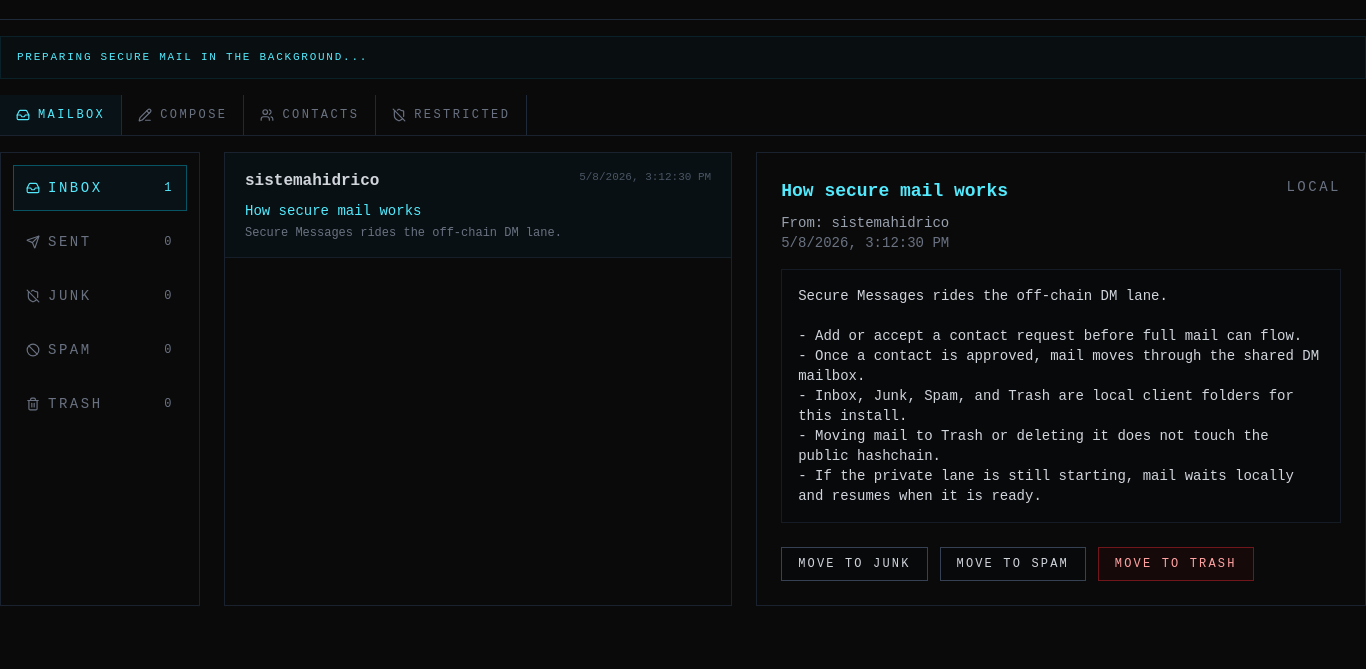
Test: MessagesView first-contact trust UX › can jump directly from the downgrade warning into invite import flow
The image size is (1366, 669).
Click the button "COMPOSE": (183, 114) [122, 94, 244, 134]
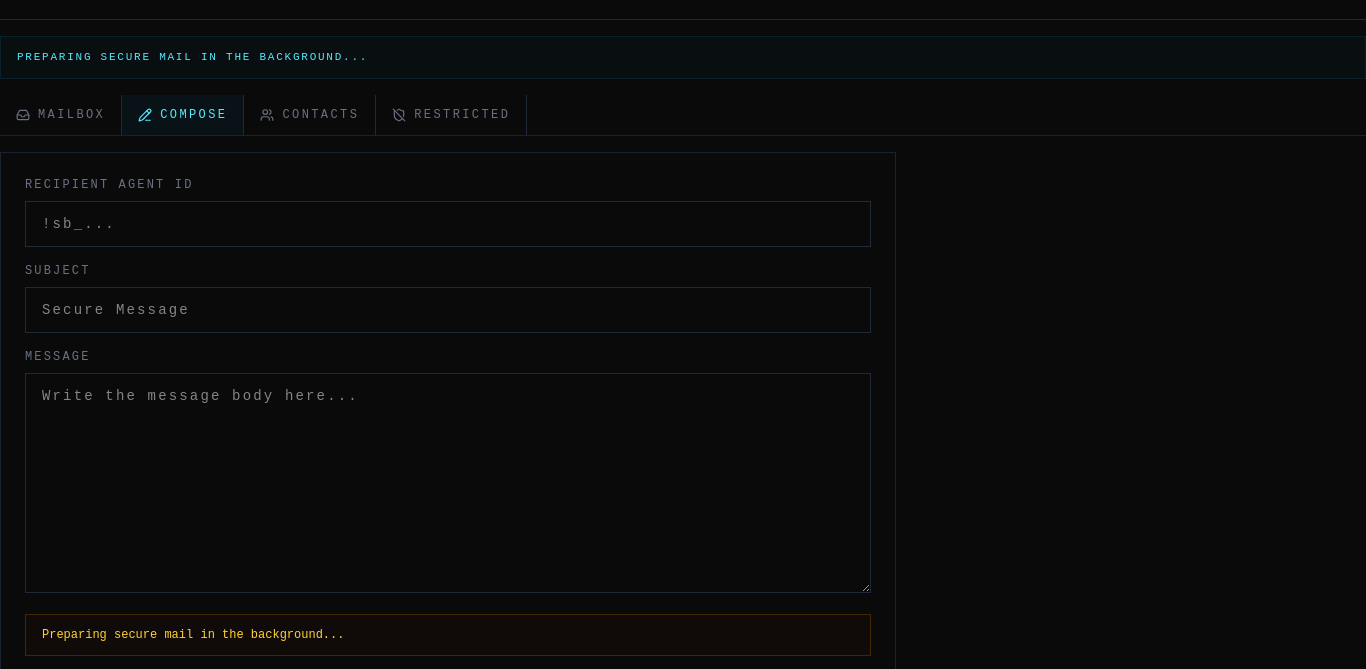
In the field labelled "Recipient agent ID": (448, 224) [25, 200, 871, 246], type "!sb_unknown"
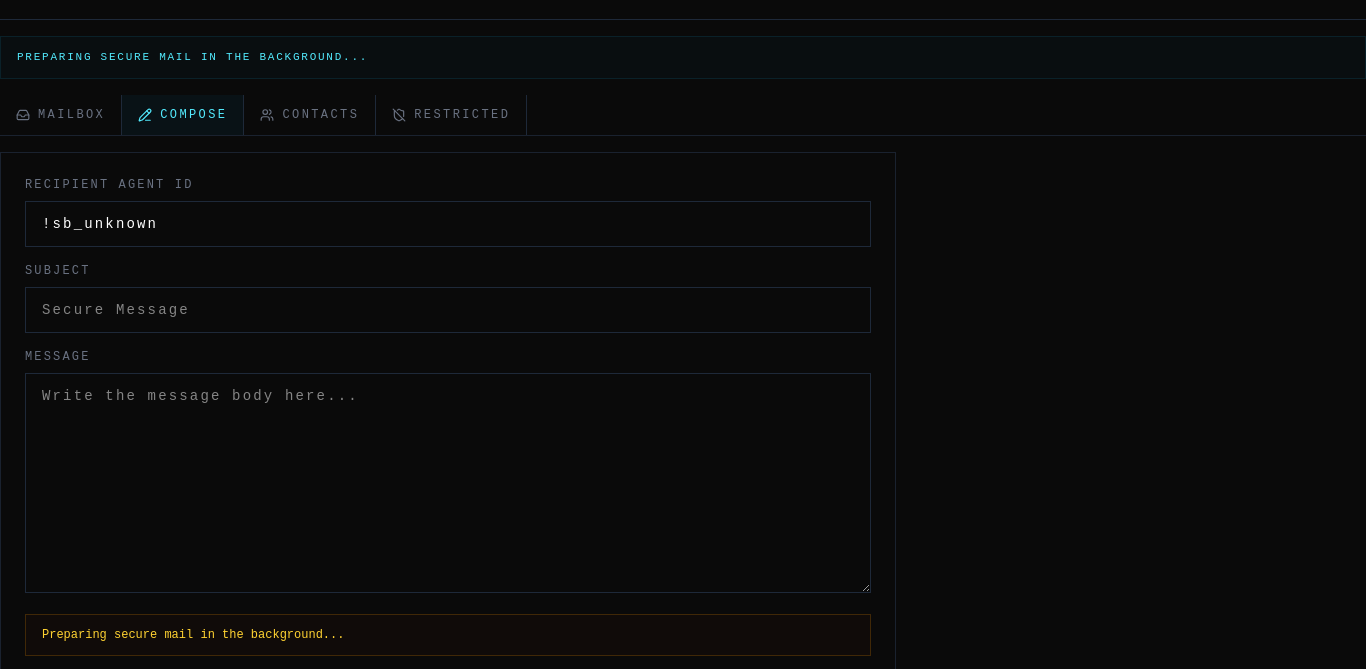
In the text box labelled "Message": (448, 482) [25, 372, 871, 592], type "hello from first contact"
(page scrolled)
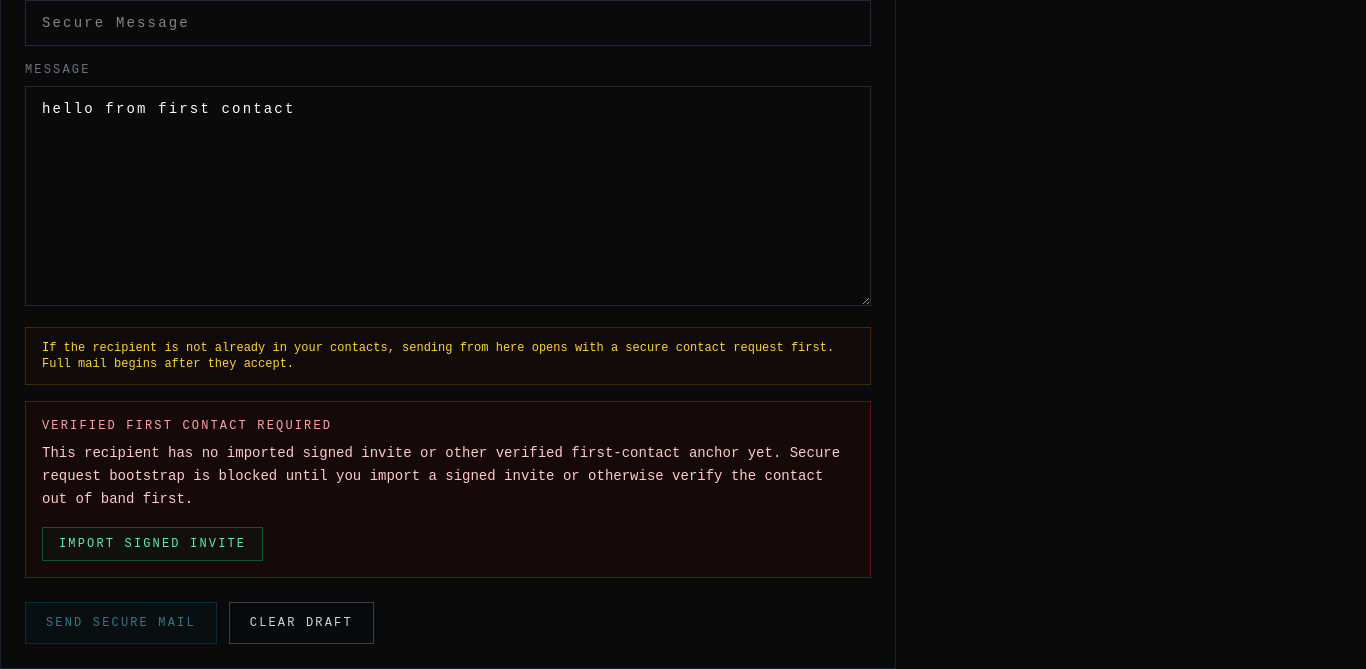
Click the button "Import Signed Invite": (153, 544) [42, 527, 263, 561]
(page scrolled)
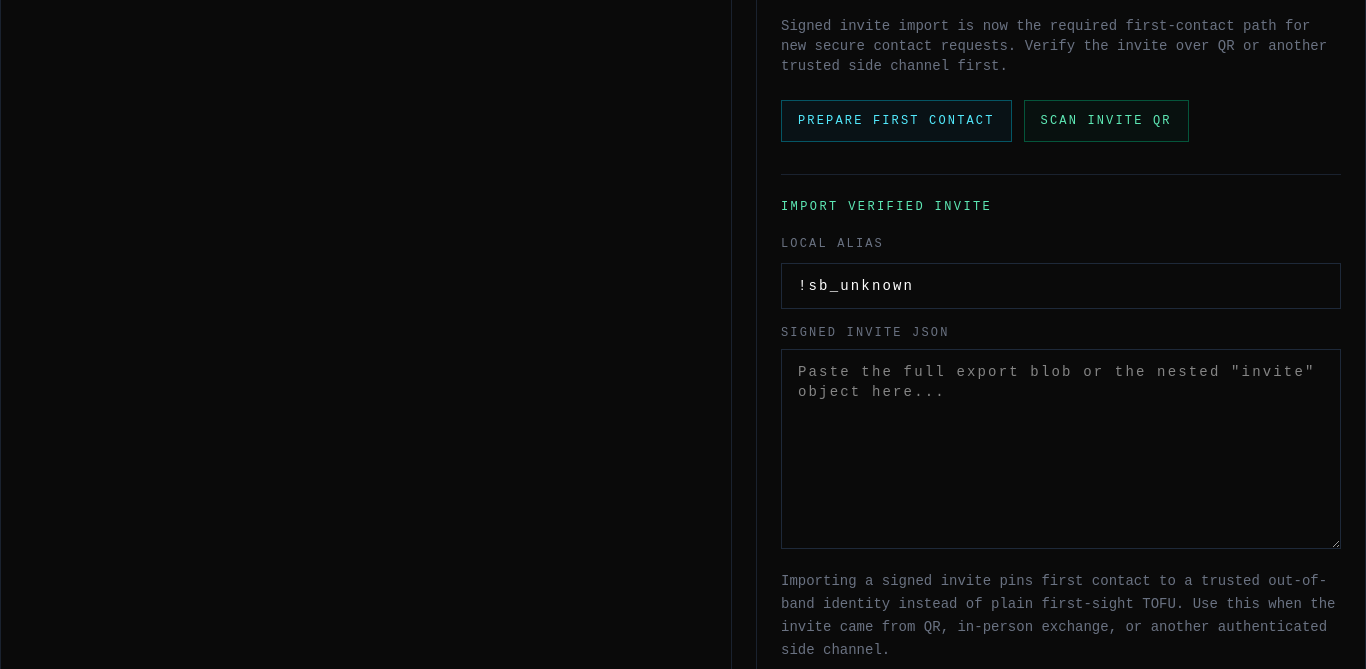
Result: the text "Import Verified Invite" is shown at [781, 200, 992, 214]
Result: the field labelled "Local Alias" holds "!sb_unknown" at [781, 262, 1341, 308]
